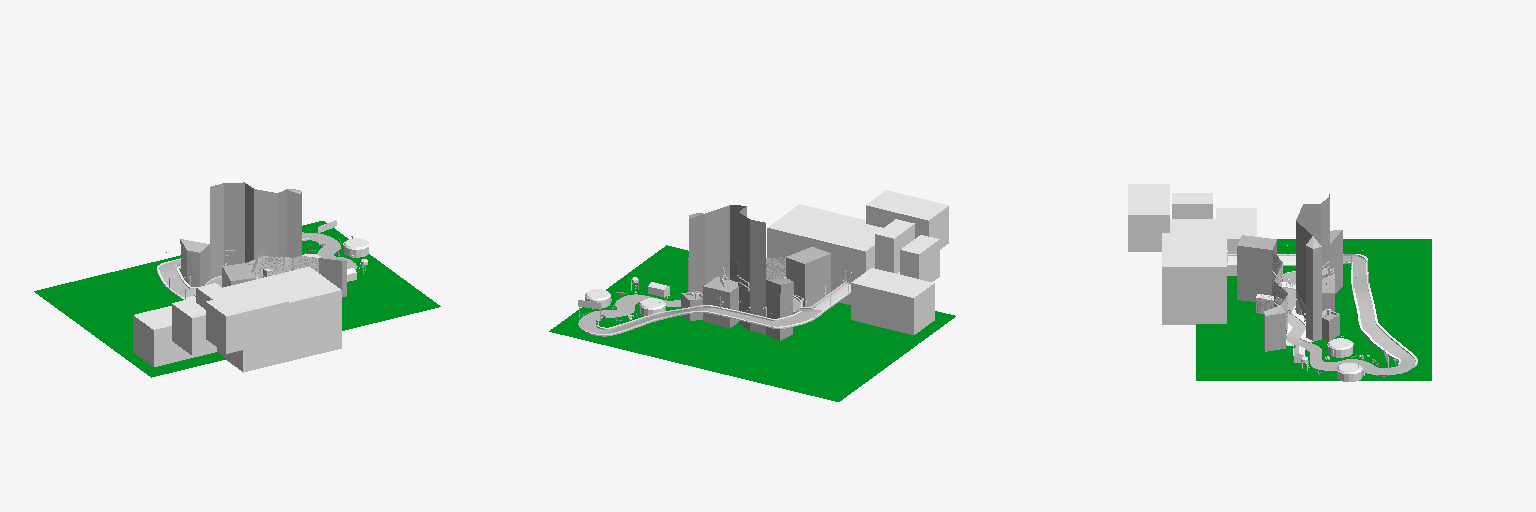
The model's file is circuitoFINAL2.obj.
3 renders of one model, left to right at view 1: azimuth 30°, elevation 25°; view 2: azimuth 150°, elevation 25°; view 3: azimuth 270°, elevation 25°, orthographic.
Parts seen in each view (by area): view 1: EdificiosFondo_Cube.043, PlanoCarretera_Plane, EdificiosPasillos.001_EdificiosPasillos.001, PistaBordillo_BezierCurve.003_CUBezierCurve.003, EdificiosPasillos_EdificiosPasillos, EdificiosIndustrial_Cylinder.001_Cylinder.016; view 2: PlanoCarretera_Plane, EdificiosFondo_Cube.043, EdificiosPasillos.001_EdificiosPasillos.001, PistaBordillo_BezierCurve.003_CUBezierCurve.003, EdificiosIndustrial_Cylinder.001_Cylinder.016; view 3: PlanoCarretera_Plane, EdificiosFondo_Cube.043, EdificiosPasillos.001_EdificiosPasillos.001, PistaBordillo_BezierCurve.003_CUBezierCurve.003, EdificiosIndustrial_Cylinder.001_Cylinder.016, EdificiosPasillos_EdificiosPasillos.
Part boxes in pixels (bbox=[...]): EdificiosFondo_Cube.043: bbox=[133, 266, 341, 372]; PlanoCarretera_Plane: bbox=[34, 221, 440, 377]; EdificiosPasillos.001_EdificiosPasillos.001: bbox=[180, 182, 346, 296]; PistaBordillo_BezierCurve.003_CUBezierCurve.003: bbox=[157, 232, 357, 299]; EdificiosPasillos_EdificiosPasillos: bbox=[247, 256, 318, 278]; EdificiosIndustrial_Cylinder.001_Cylinder.016: bbox=[302, 236, 369, 281]; PlanoCarretera_Plane: bbox=[549, 245, 955, 401]; EdificiosFondo_Cube.043: bbox=[767, 190, 948, 334]; EdificiosPasillos.001_EdificiosPasillos.001: bbox=[681, 205, 830, 340]; PistaBordillo_BezierCurve.003_CUBezierCurve.003: bbox=[578, 282, 850, 336]; EdificiosIndustrial_Cylinder.001_Cylinder.016: bbox=[585, 277, 669, 315]; PlanoCarretera_Plane: bbox=[1196, 239, 1431, 380]; EdificiosFondo_Cube.043: bbox=[1128, 184, 1256, 324]; EdificiosPasillos.001_EdificiosPasillos.001: bbox=[1237, 194, 1342, 351]; PistaBordillo_BezierCurve.003_CUBezierCurve.003: bbox=[1227, 254, 1417, 374]; EdificiosIndustrial_Cylinder.001_Cylinder.016: bbox=[1293, 336, 1362, 381]; EdificiosPasillos_EdificiosPasillos: bbox=[1256, 250, 1287, 328].
Bounding box in the file's own units: 3265 × 1201 × 2924.